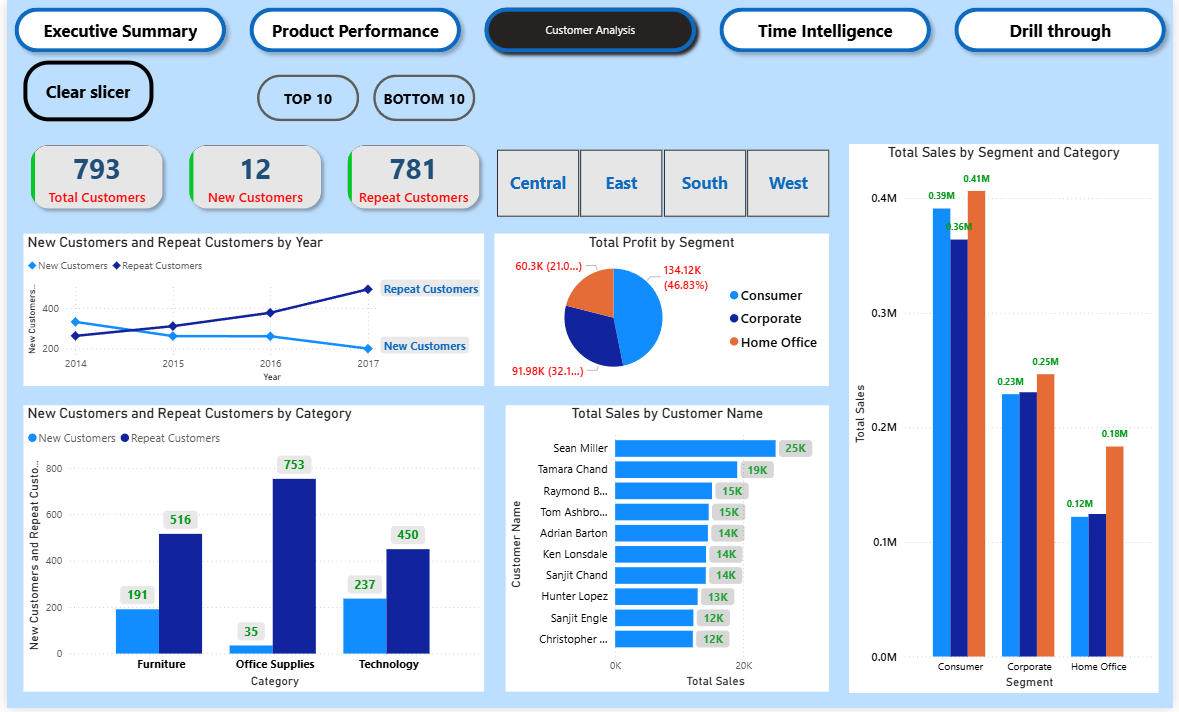

The page's visual inventory and layout, read from the dashboard file:
{"tool":"powerbi","page":{"name":"Customer Analysis","canvas":[1400,850],"ordinal":2},"visuals":[{"type":"clusteredBarChart","fields":{"Category":["Superstore.Customer Name"],"Y":["Superstore.Total Sales"]},"box":[598.5,486.4,387.9,343.9],"z":1000},{"type":"clusteredColumnChart","fields":{"Y":["Superstore.Total Sales"],"Category":["Superstore.Segment"],"Series":["Superstore.Category"]},"box":[1010.6,172.7,371.2,659.1],"z":2000},{"type":"pageNavigator","box":[0,0,1400,72.7],"z":3000},{"type":"pieChart","fields":{"Category":["Superstore.Segment"],"Y":["Superstore.Total Profit"]},"box":[584.8,280.3,401.5,183.3],"z":8000},{"type":"actionButton","box":[19.7,72.7,156.1,72.7],"z":10000},{"type":"cardVisual","fields":{"Data":["Superstore.Total Customers","Superstore.New Customers","Superstore.Repeat Customers"]},"box":[0,145.5,598.5,134.8],"z":11000},{"type":"lineChart","fields":{"Category":["Date Table.Date.Variation.Date Hierarchy.Year","Date Table.Date.Variation.Date Hierarchy.Month"],"Y":["Superstore.New Customers","Superstore.Repeat Customers"]},"box":[19.7,280.3,553,183.3],"z":12000},{"type":"lineClusteredColumnComboChart","fields":{"Y":["Superstore.New Customers","Superstore.Repeat Customers"],"Category":["Superstore.Category"]},"box":[19.7,486.4,553,343.9],"z":13000},{"type":"slicer","fields":{"Values":["Superstore.Region"]},"box":[562.1,172.7,448.5,93.9],"z":14000},{"type":"actionButton","title":"TOP 5","box":[439.4,89.4,122.7,56.1],"z":15000},{"type":"actionButton","title":"TOP 5","box":[300,89.4,122.7,56.1],"z":16000}]}

Visuals, with their boxes in screenshot pixels (x1, y1, x2, y2), scaled from the page's 1400x850 canvas onto the 1179x712 screenshot:
clusteredBarChart - Superstore.Customer Name x Superstore.Total Sales: bbox=(504, 407, 831, 695)
clusteredColumnChart - Superstore.Total Sales x Superstore.Segment: bbox=(851, 145, 1164, 697)
pageNavigator: bbox=(0, 0, 1178, 61)
pieChart - Superstore.Segment x Superstore.Total Profit: bbox=(492, 235, 831, 388)
actionButton: bbox=(17, 61, 148, 122)
cardVisual - Superstore.Total Customers x Superstore.New Customers: bbox=(0, 122, 504, 235)
lineChart - Date Table.Date.Variation.Date Hierarchy.Year x Date Table.Date.Variation.Date Hierarchy.Month: bbox=(17, 235, 482, 388)
lineClusteredColumnComboChart - Superstore.New Customers x Superstore.Repeat Customers: bbox=(17, 407, 482, 695)
slicer - Superstore.Region: bbox=(473, 145, 851, 223)
"TOP 5" actionButton: bbox=(370, 75, 473, 122)
"TOP 5" actionButton: bbox=(253, 75, 356, 122)
